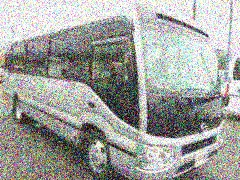bus: (1, 0, 231, 180)
